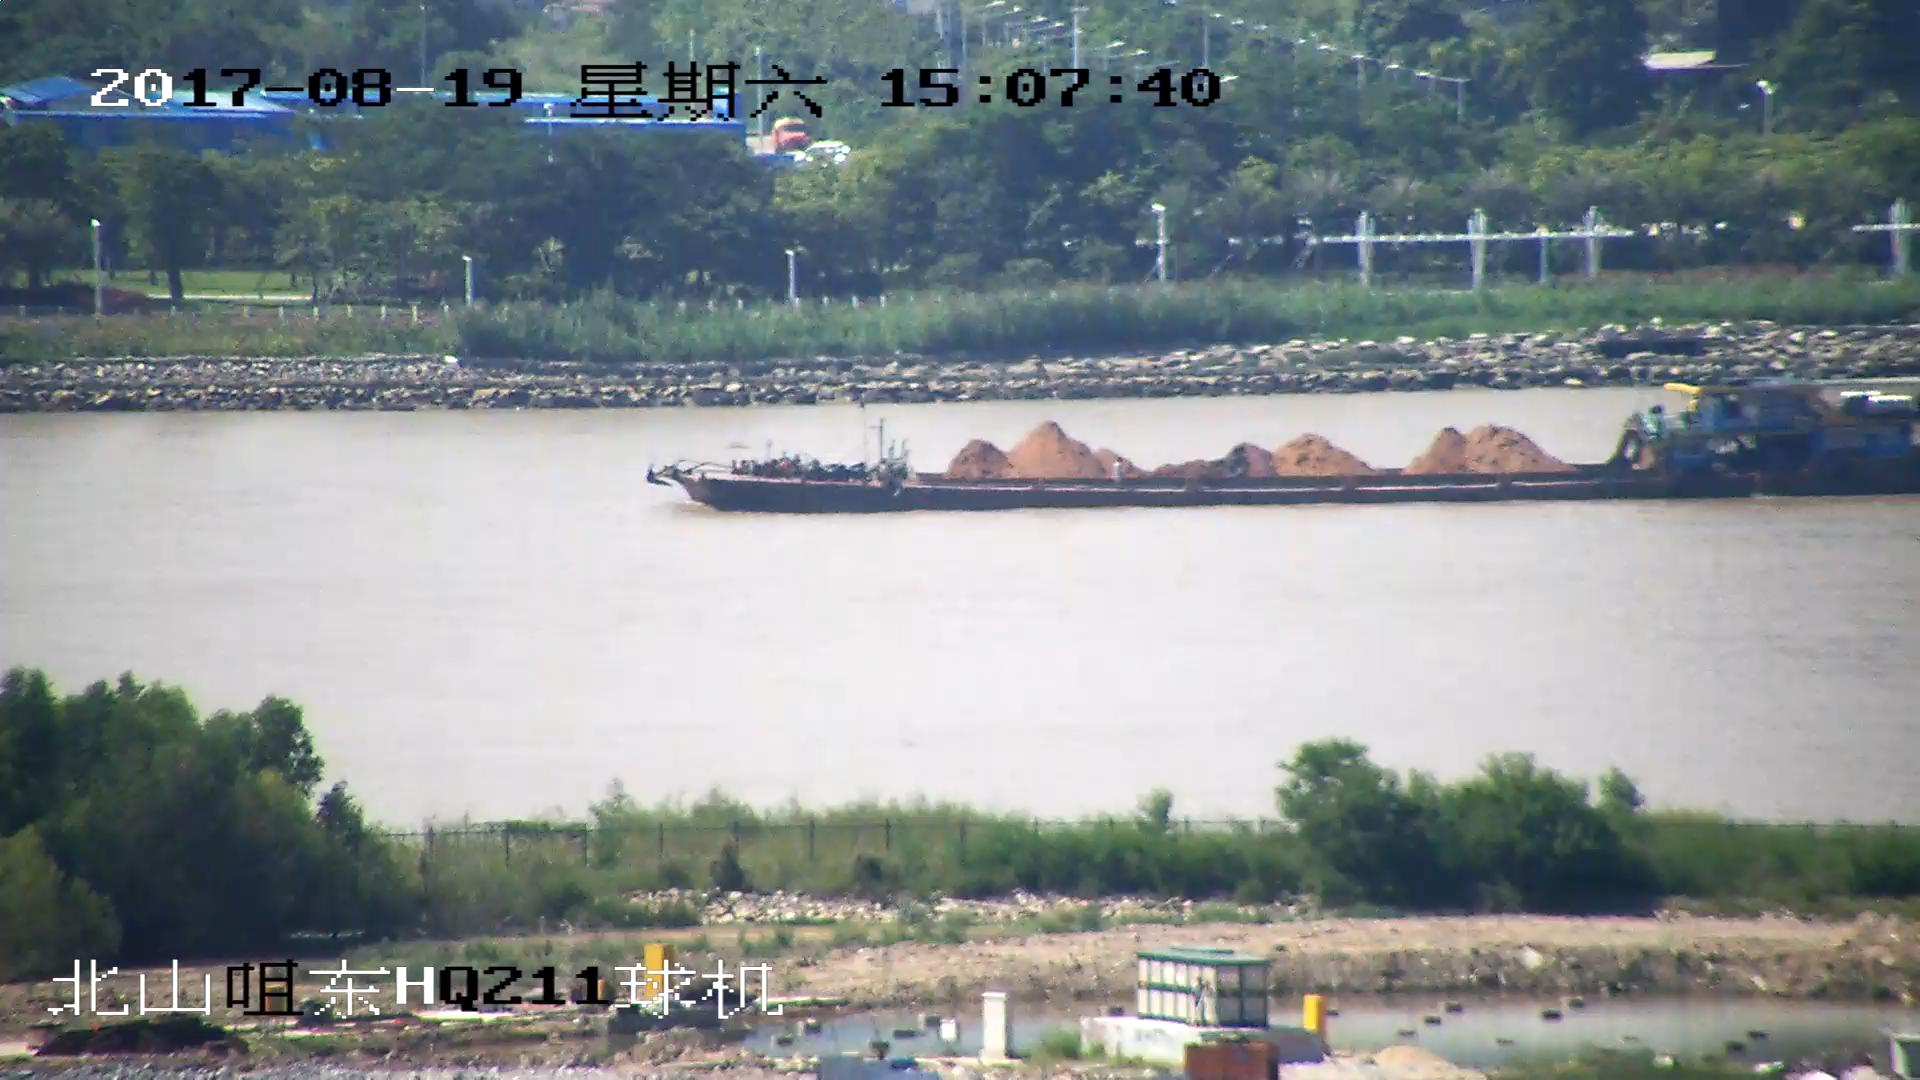ore carrier: (646, 374, 1920, 513)
